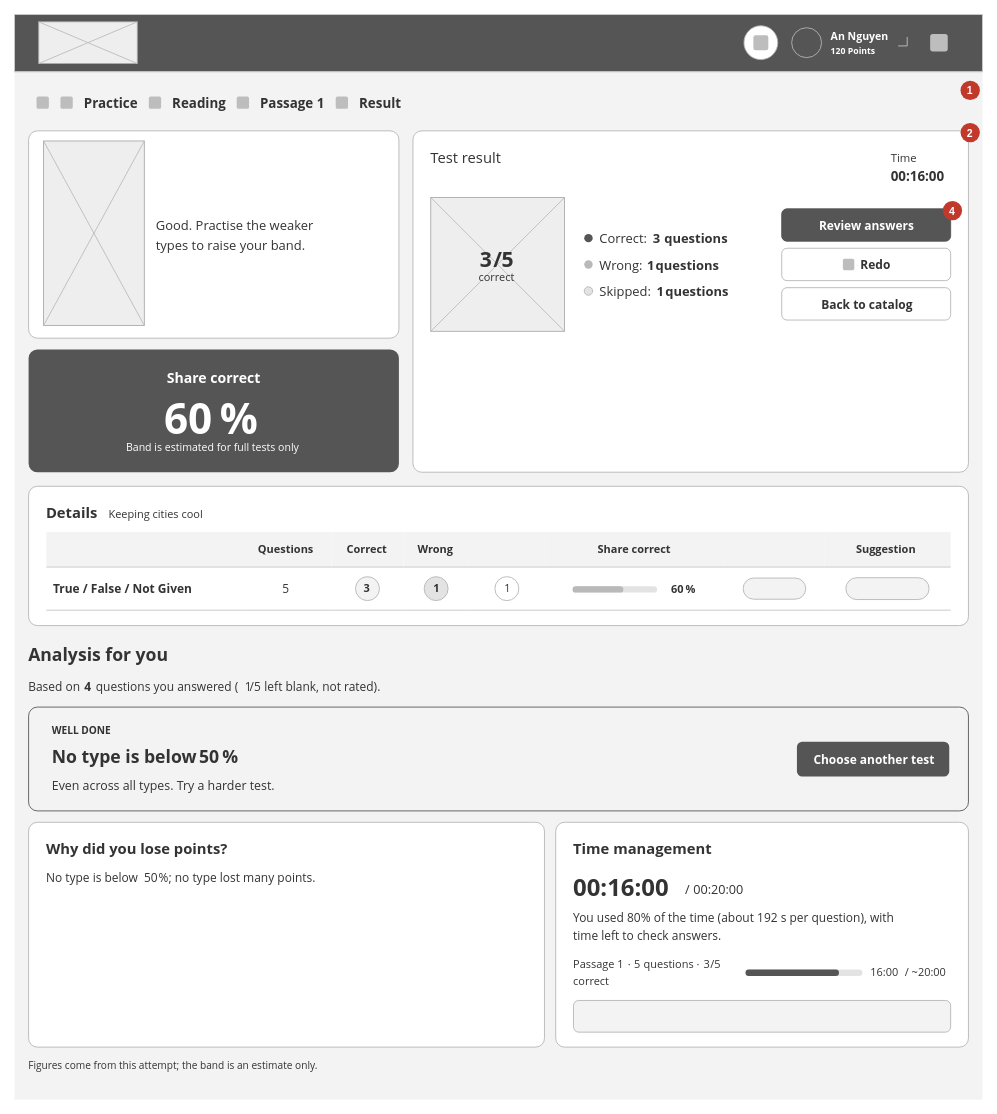
The diagram is 997 pixels wide and 1114 high, and some of its shapes have lost their labels. Here are the shapes that lost their labels. From the top down, the centre of each, then its label:
the point at 806,42: AN
the point at 143,549: Question type
the point at 506,549: Skipped
the point at 774,549: Rating
the point at 774,588: Average
the point at 887,588: ✓ Keep it up
the point at 762,1016: Tip: spend about 20 minutes on this passage.
